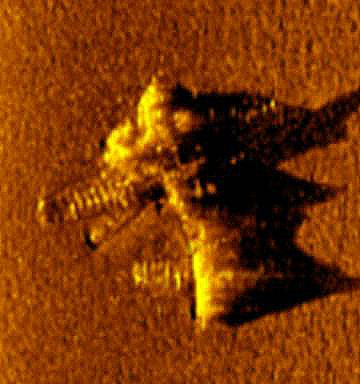aircraft: (33, 68, 336, 332)
